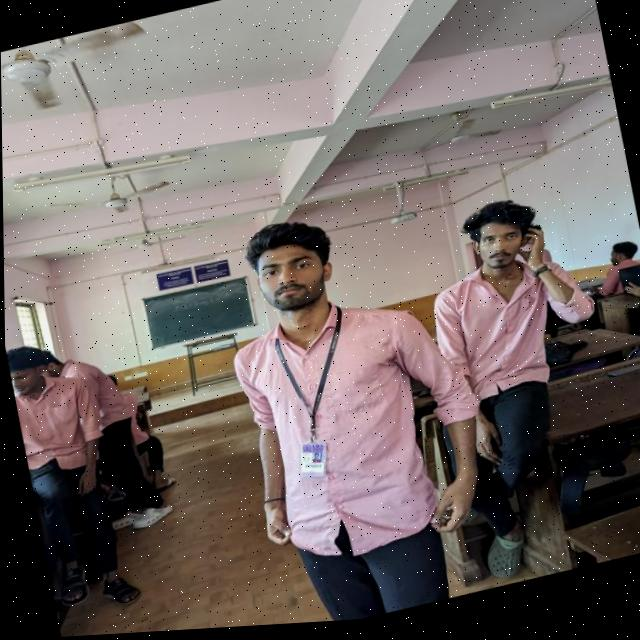id_card: (252, 314, 378, 495)
